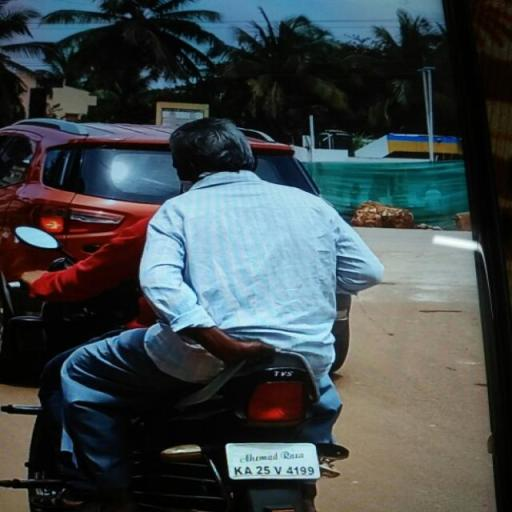bike: (14, 114, 398, 508)
numberplate: (226, 444, 322, 482)
withouthelmet: (165, 110, 251, 181)
